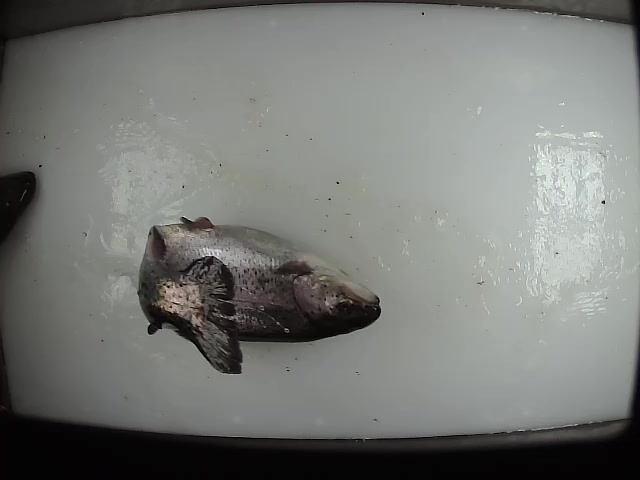Fish: (139, 216, 380, 374)
